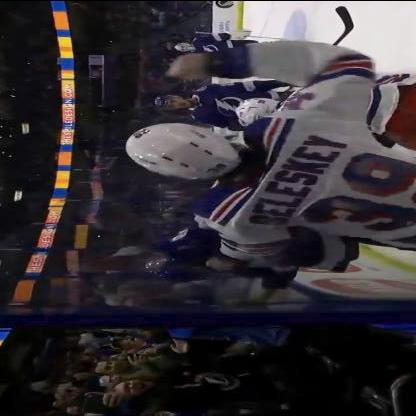voilence: (122, 37, 416, 275)
